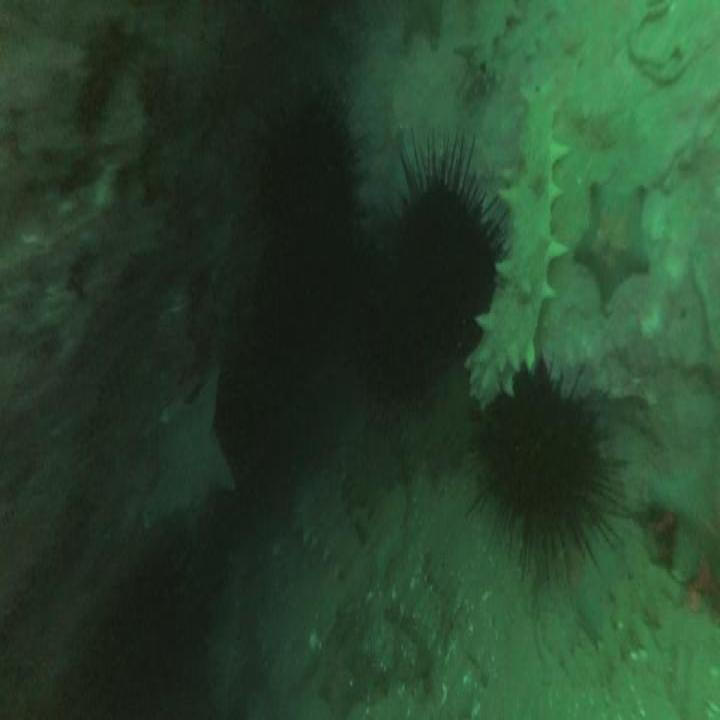echinus: (483, 372, 599, 544), (396, 180, 495, 358)
holothurian: (469, 78, 566, 413), (294, 480, 361, 576), (456, 1, 512, 90)
starfish: (148, 371, 235, 534), (648, 444, 720, 586), (574, 185, 652, 297)
